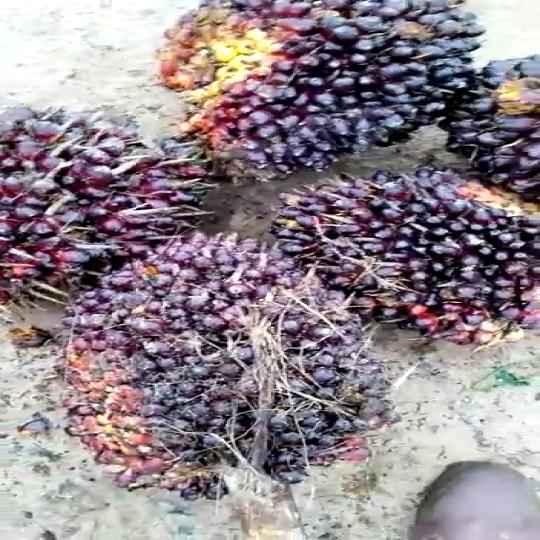kurang masak: (19, 231, 400, 498), (129, 0, 486, 174), (254, 154, 540, 340), (0, 91, 213, 291)
